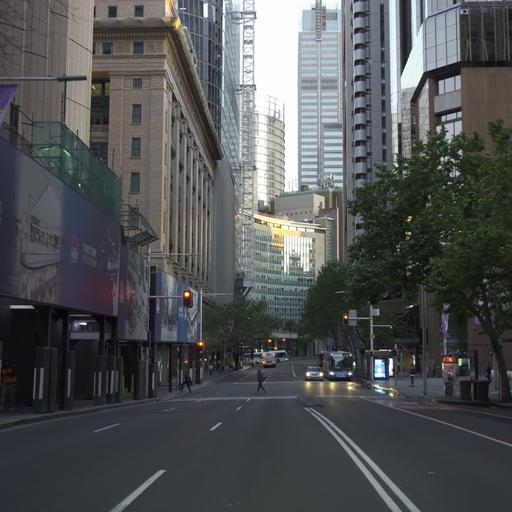Street light: (145, 247, 202, 398), (334, 289, 373, 350), (303, 215, 333, 222), (182, 288, 193, 307), (196, 339, 204, 350), (342, 313, 348, 323)
